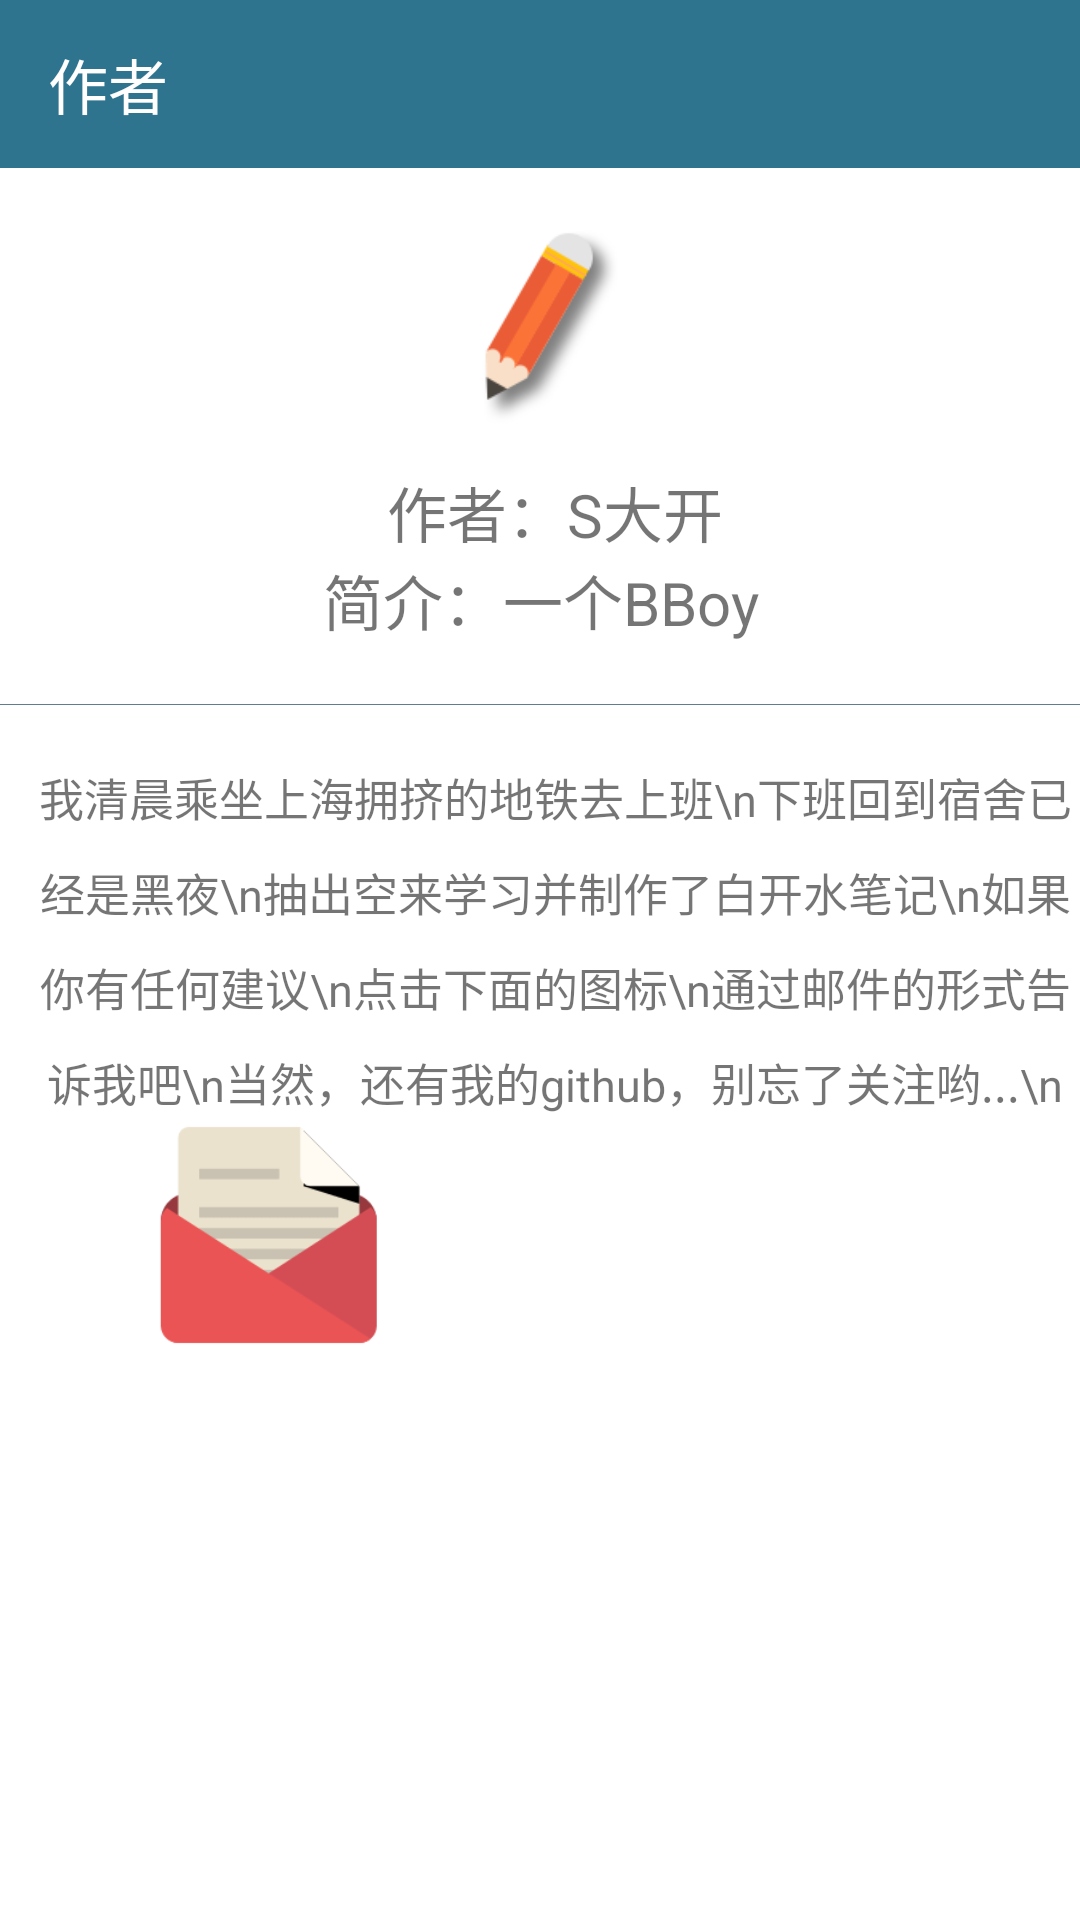

Screen size 1080px x 1920px. Icon name, then its center in pixels as (x=x, y=y):
email: (x=268, y=1235)
item edit: (x=547, y=323)
